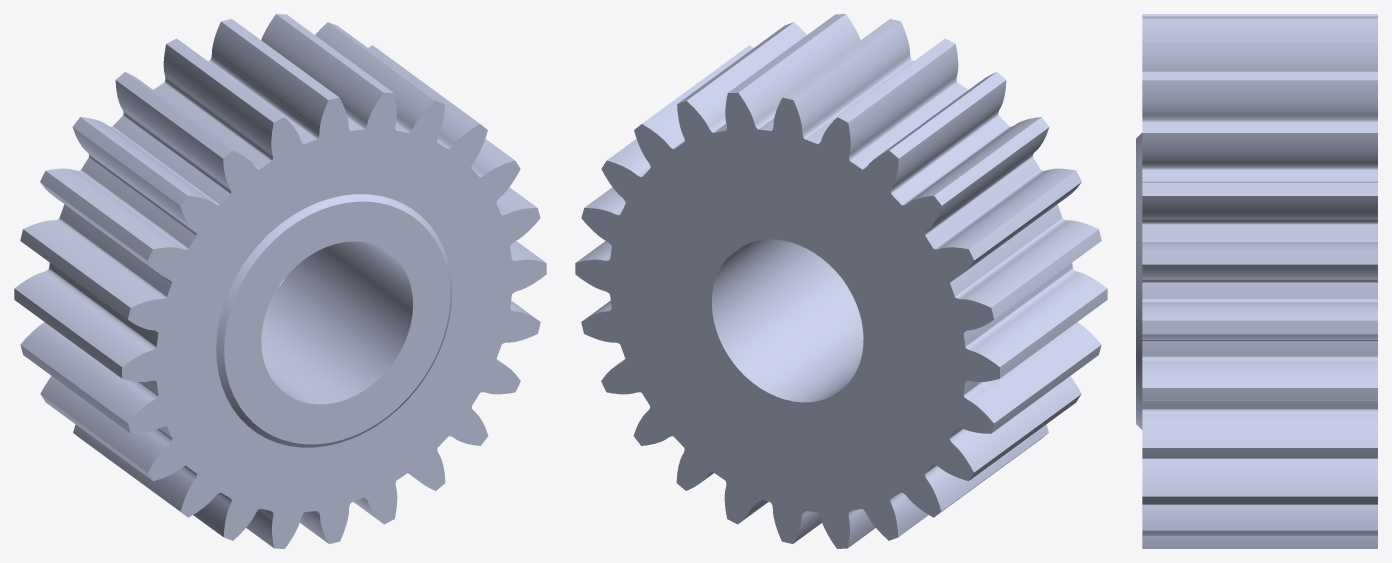
Rendered from REV_21_2102_P05_8_solid1.obj.
The picture shows the model from 3 angles, left to right: view 1: azimuth 30°, elevation 25°; view 2: azimuth 150°, elevation 25°; view 3: azimuth 270°, elevation 25°; orthographic projection. The views are drawn at different scales.
Visible parts, largest first — view 1: mesh24525, mesh24522, mesh24524, mesh24576, mesh24569, mesh24572, mesh24597, mesh24579, mesh24566, mesh24560, mesh24594, mesh24582 (+25 smaller); view 2: mesh24526, mesh24524, mesh24576, mesh24569, mesh24572, mesh24597, mesh24579, mesh24566, mesh24560, mesh24594, mesh24582, mesh24563 (+22 smaller); view 3: mesh24581, mesh24534, mesh24531, mesh24584, mesh24537, mesh24578, mesh24587, mesh24528, mesh24591, mesh24590, mesh24575, mesh24538 (+24 smaller).
Boxes of the visible parts, x1,y1,x2,y2 form: mesh24525: [122, 92, 546, 548]; mesh24522: [224, 201, 450, 444]; mesh24524: [261, 241, 412, 404]; mesh24576: [209, 22, 328, 138]; mesh24569: [14, 268, 156, 366]; mesh24572: [20, 322, 158, 422]; mesh24597: [163, 44, 273, 161]; mesh24579: [261, 14, 383, 129]; mesh24566: [23, 218, 166, 307]; mesh24560: [40, 376, 172, 472]; mesh24594: [115, 80, 231, 194]; mesh24582: [315, 22, 434, 132]; mesh24526: [575, 92, 999, 548]; mesh24524: [712, 239, 863, 402]; mesh24576: [793, 22, 912, 138]; mesh24569: [965, 268, 1107, 366]; mesh24572: [963, 322, 1101, 422]; mesh24597: [848, 44, 958, 161]; mesh24579: [738, 14, 860, 129]; mesh24566: [955, 218, 1098, 307]; mesh24560: [949, 376, 1081, 472]; mesh24594: [890, 80, 1006, 194]; mesh24582: [687, 22, 806, 132]; mesh24563: [933, 168, 1075, 249]; mesh24581: [1142, 80, 1377, 121]; mesh24534: [1142, 408, 1377, 447]; mesh24531: [1142, 458, 1377, 496]; mesh24584: [1142, 133, 1377, 170]; mesh24537: [1142, 356, 1377, 387]; mesh24578: [1142, 41, 1377, 71]; mesh24587: [1142, 196, 1377, 224]; mesh24528: [1142, 504, 1377, 530]; mesh24591: [1142, 298, 1377, 320]; mesh24590: [1142, 264, 1377, 283]; mesh24575: [1142, 18, 1377, 35]; mesh24538: [1142, 341, 1377, 356].
Bounding box in the file's own units: 0.0169 × 0.0169 × 0.00762.
